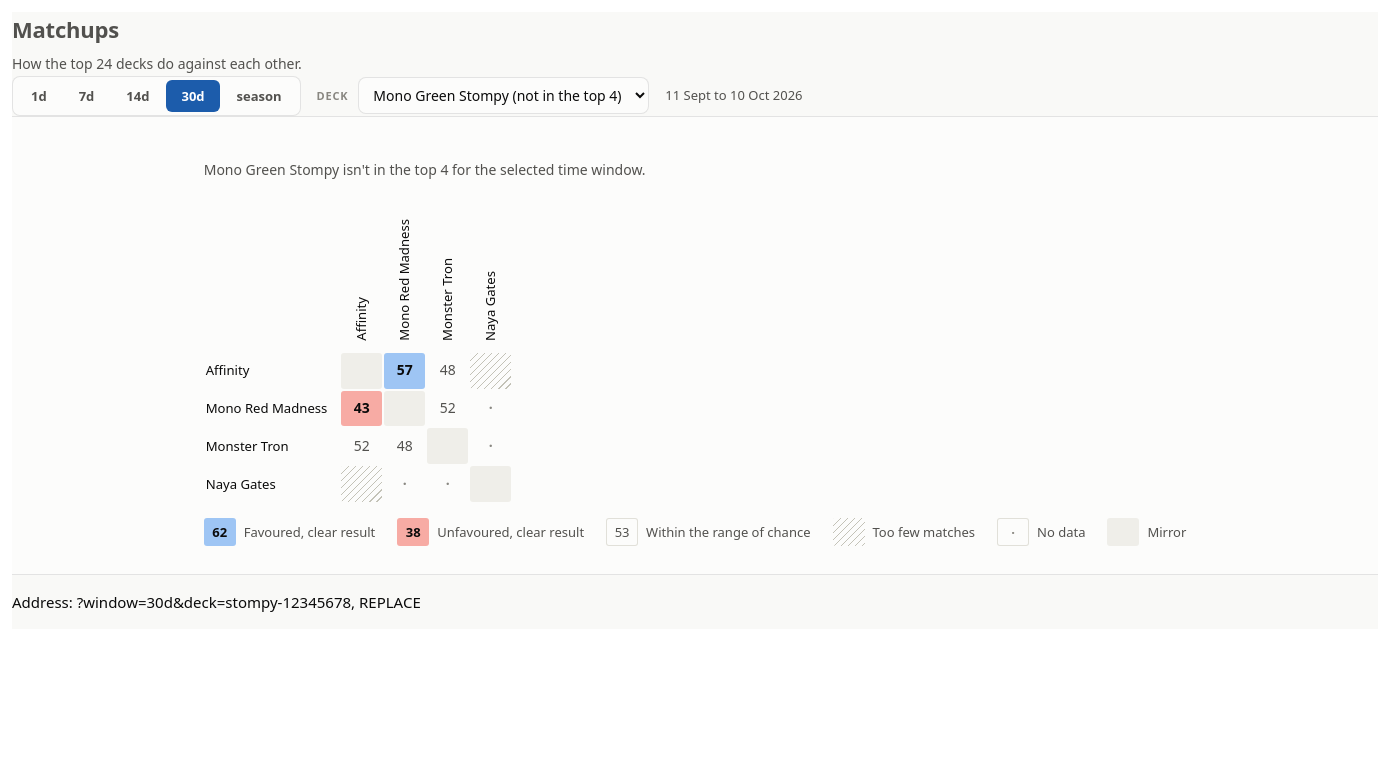
MatchupsPage › lets the reader clear a deck missing from the previous window while another one loads
This screenshot has width=1378, height=780.
Click the button "7d".
click(87, 96)  # box [64,80,109,112]
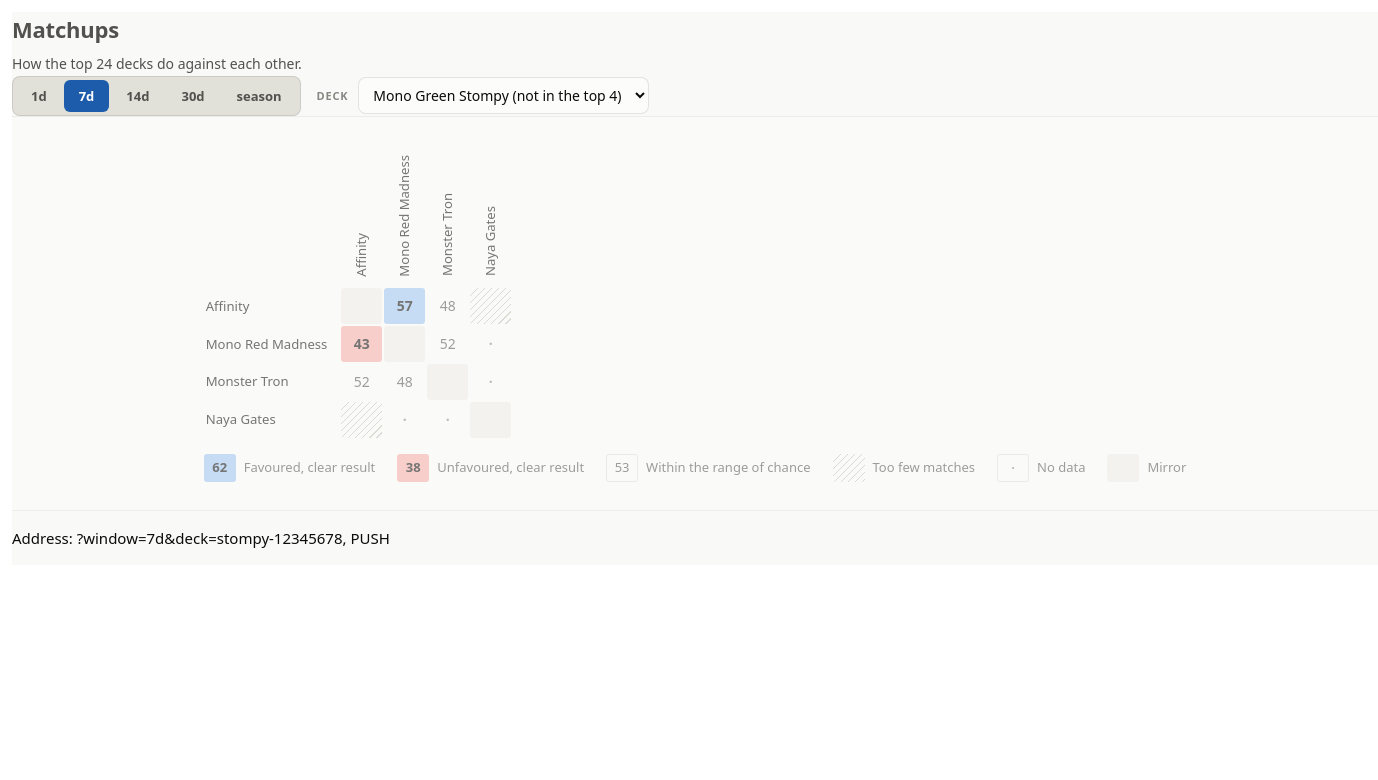
Select "All decks" in the dropdown labelled "Deck" at point(504, 96), box [358,77,649,114]
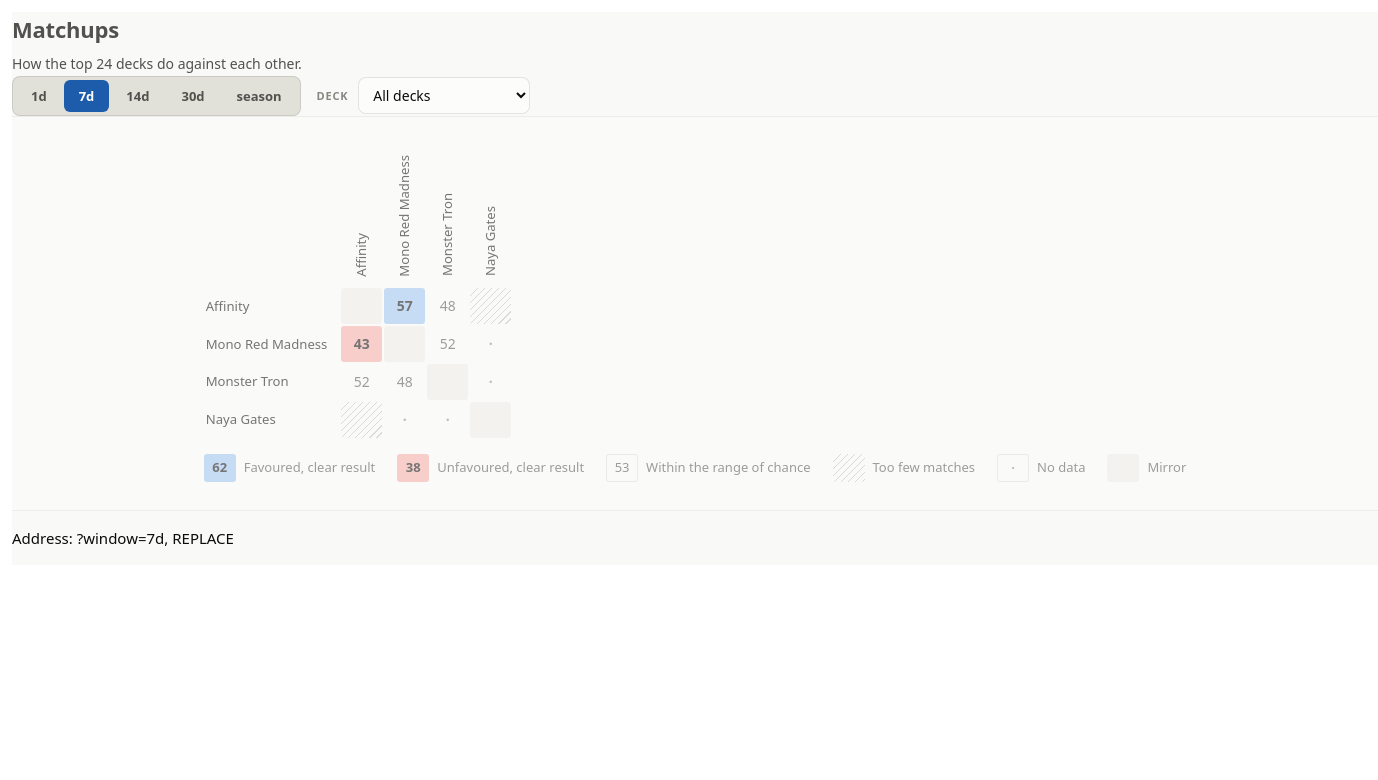
Check: the text "Address: ?window=7d, REPLACE" is shown, box [12,528,234,548]
